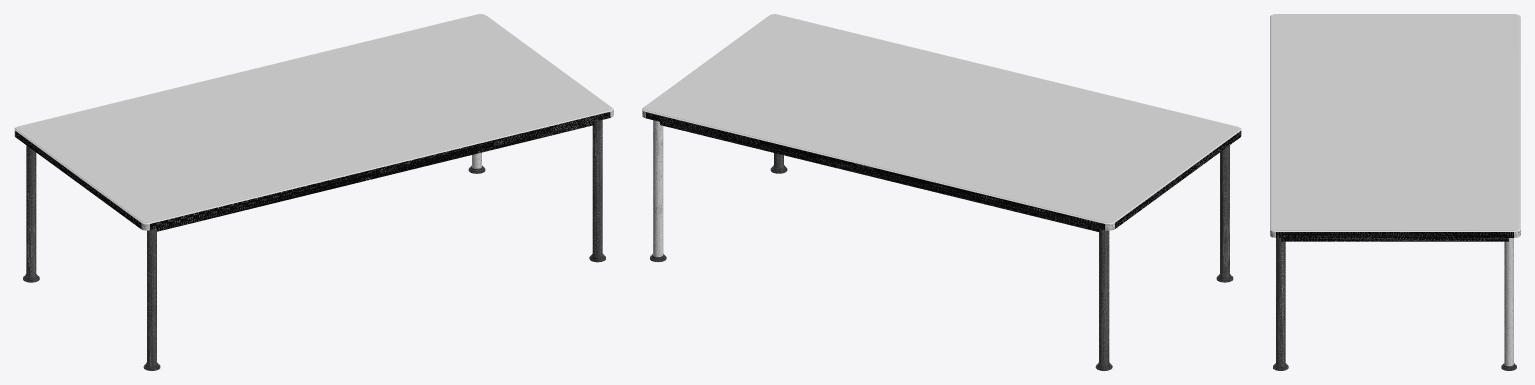
File: TI-Table.dae
The picture shows the model from 3 angles, left to right: view 1: azimuth 30°, elevation 25°; view 2: azimuth 150°, elevation 25°; view 3: azimuth 270°, elevation 25°; orthographic projection. The views are drawn at different scales.
Visible parts, largest first — view 1: skp8F60 (×7); view 2: skp8F60 (×7); view 3: skp8F60 (×7).
Part boxes in pixels (<box>): skp8F60 (×7): <box>14,14,613,365</box>; skp8F60 (×7): <box>642,14,1241,365</box>; skp8F60 (×7): <box>1270,14,1520,366</box>.
Size of the model in its own units: 103 by 50.21 by 31.43.
Materials: 5 (2 with a texture image).
